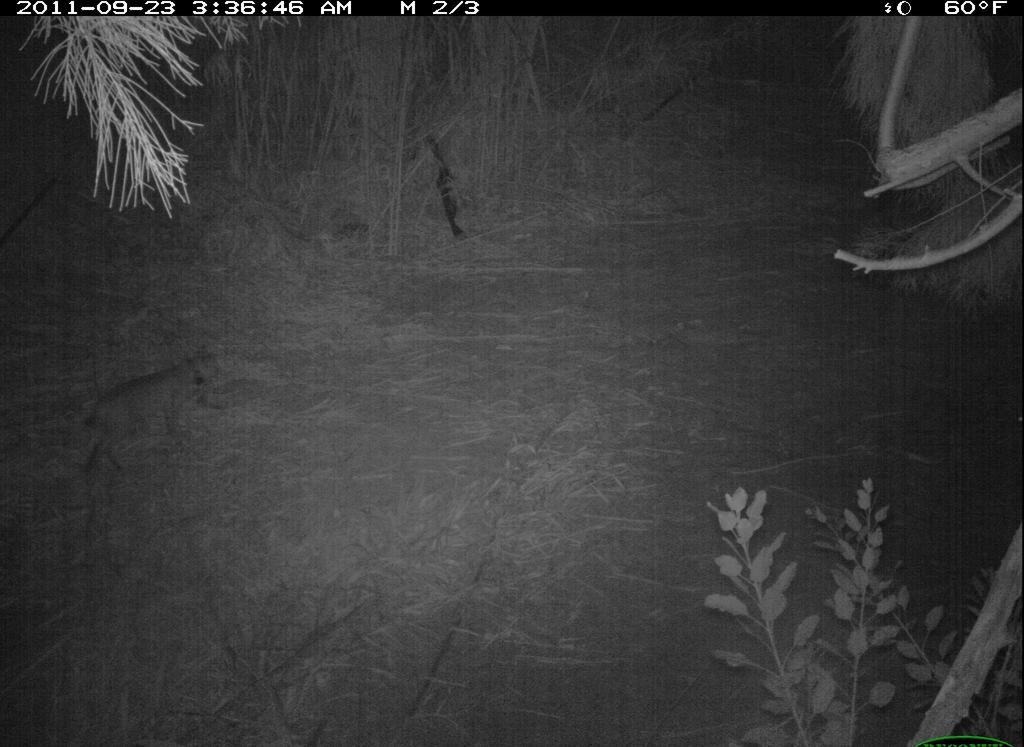bobcat: (72, 350, 238, 485)
